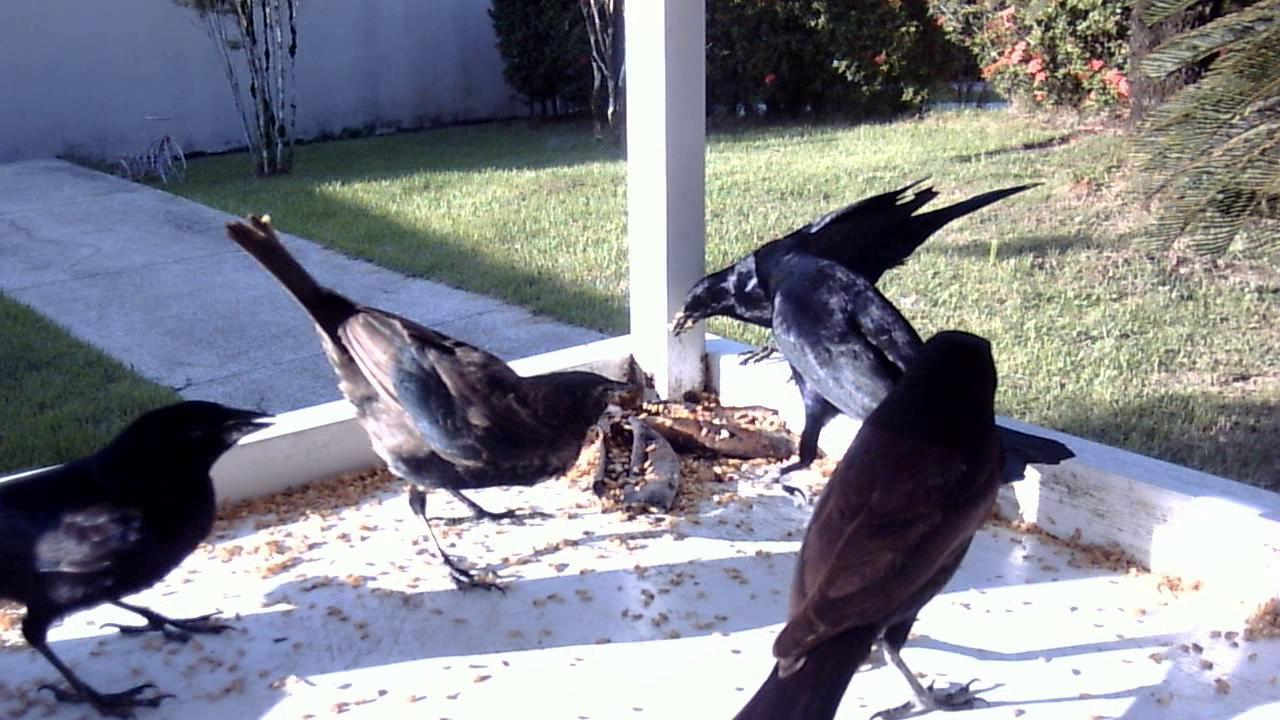chupim: (209, 200, 658, 622), (715, 318, 1089, 720), (1, 387, 299, 712), (750, 246, 1077, 492), (660, 168, 1048, 369)
